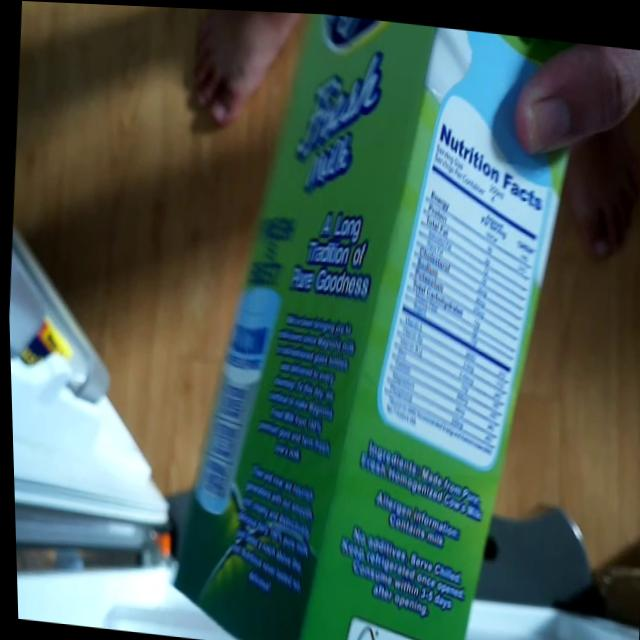milk: (143, 5, 598, 640)
